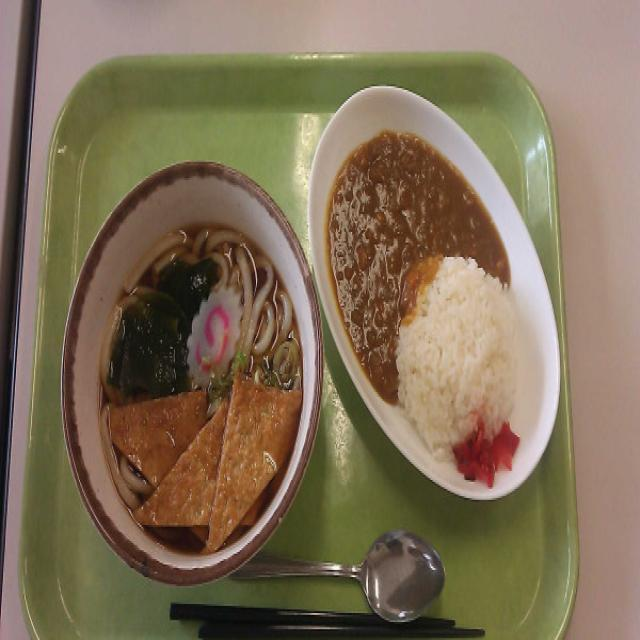Beef Curry: (330, 126, 478, 308)
Rice: (402, 256, 522, 434)
